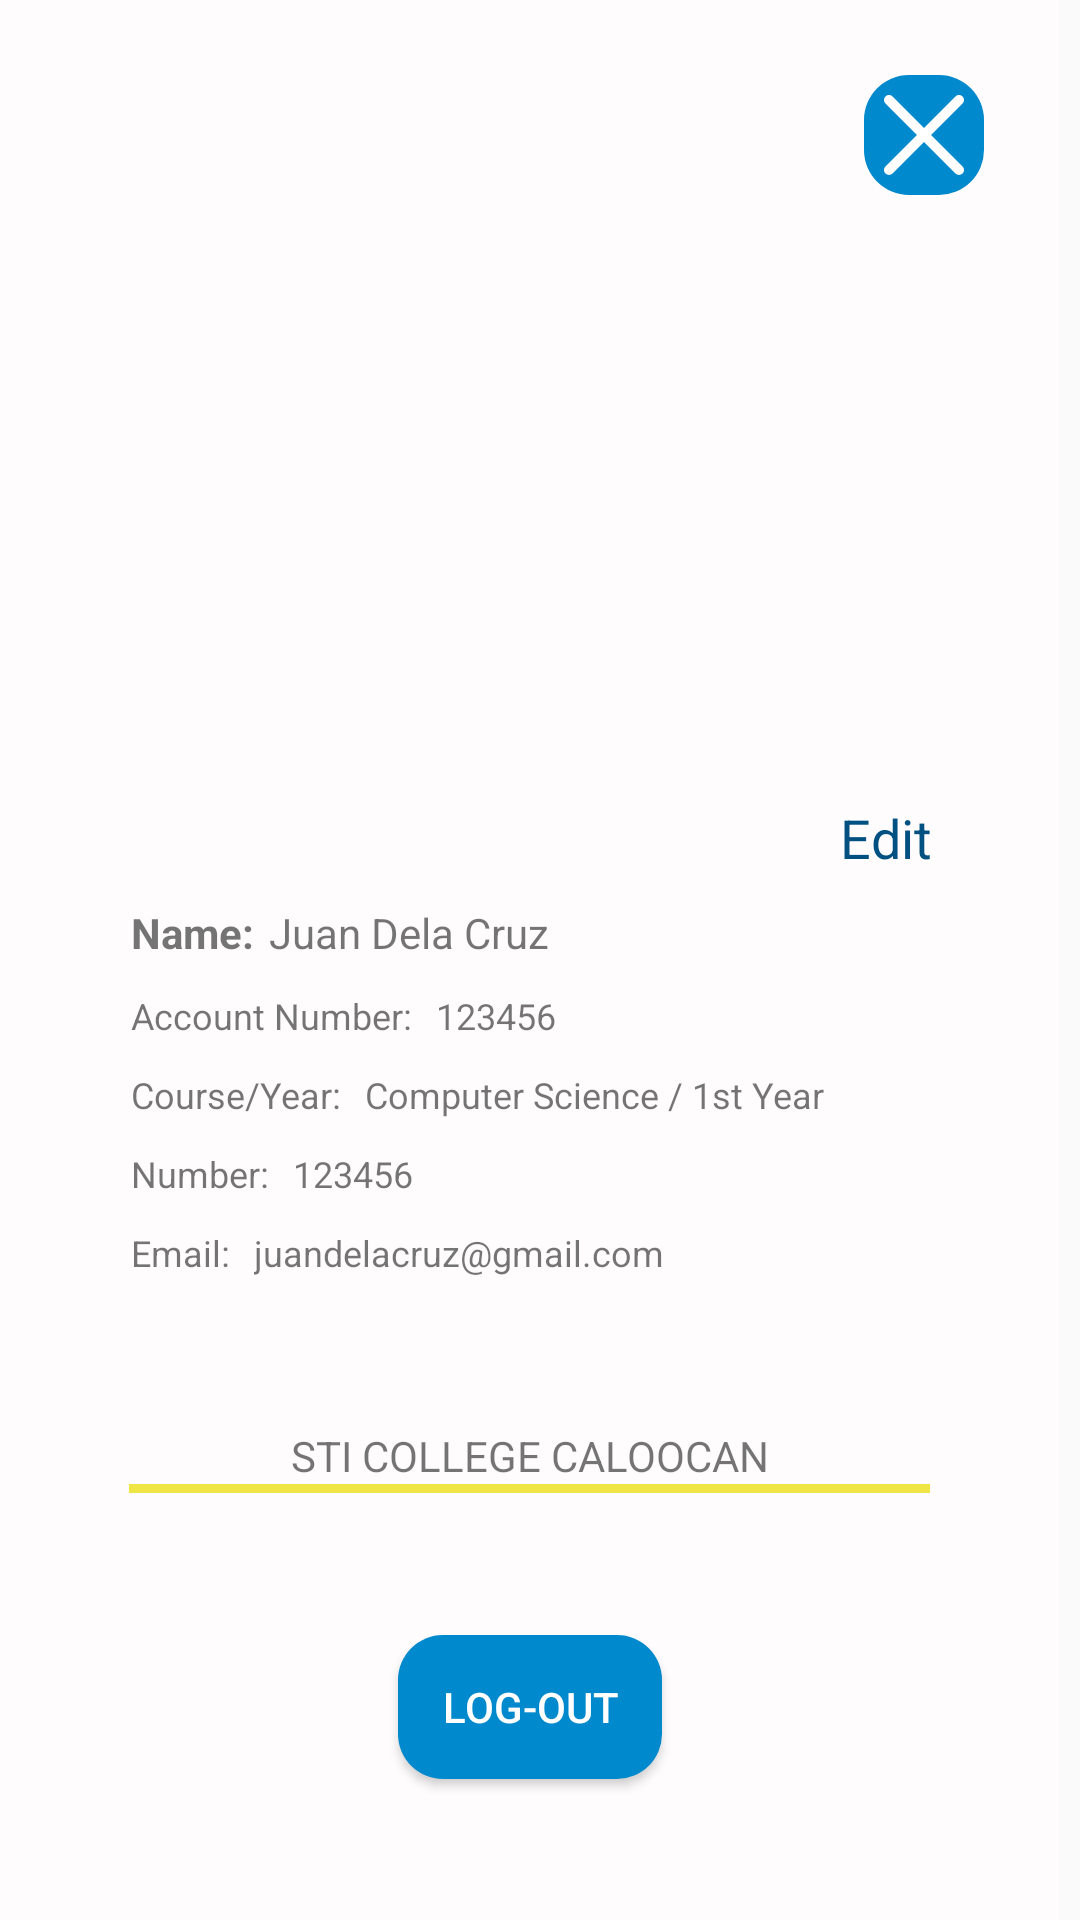

Icon bounding boxes for this 1080w x 1920h phone screenshot, format (x1, y1, x2, y2):
close: (864, 75, 984, 195)
